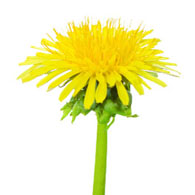dandelion: (33, 34, 164, 101)
